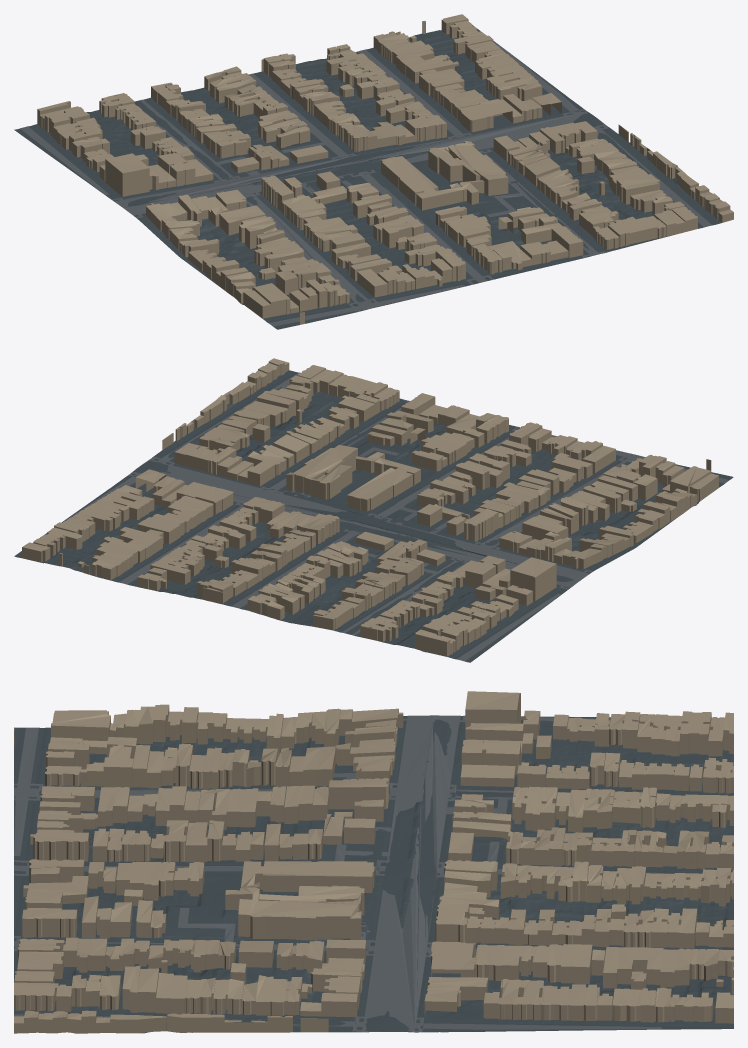
File: epsg26910-1420-10889.lod0.glb
3 renders of one model, top to bottom at view 1: azimuth 30°, elevation 25°; view 2: azimuth 150°, elevation 25°; view 3: azimuth 270°, elevation 25°, orthographic. The views are drawn at different scales.
Parts seen in each view (by area): view 1: epsg26910-1420-10889-lod0; view 2: epsg26910-1420-10889-lod0; view 3: epsg26910-1420-10889-lod0.
Part boxes in pixels (x1,y1,x2,y2): epsg26910-1420-10889-lod0: [14, 14, 733, 329]; epsg26910-1420-10889-lod0: [14, 358, 733, 662]; epsg26910-1420-10889-lod0: [14, 691, 733, 1033].
Size of the model in its own units: 384 by 28.47 by 384.
